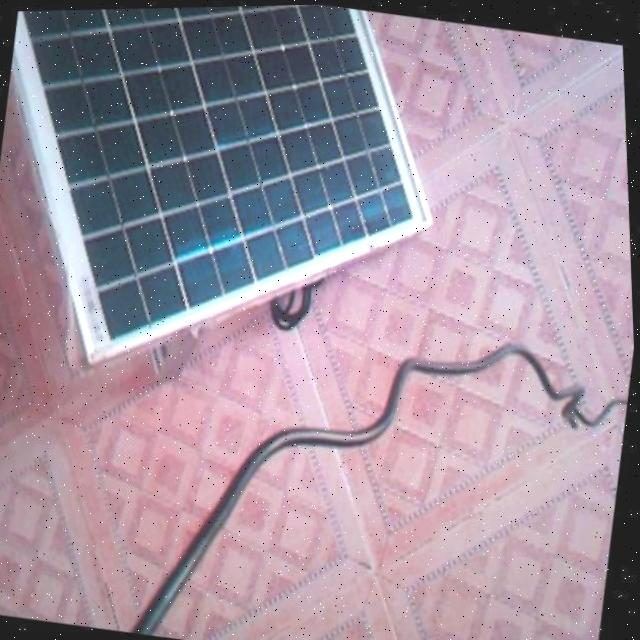Normal Solar Panel: (0, 0, 472, 415)
